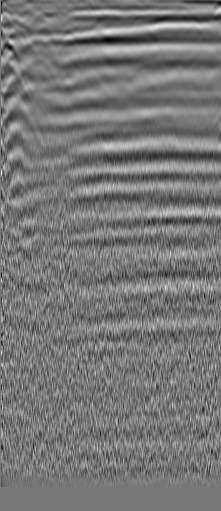오수: (26, 11, 46, 31)
우수: (178, 15, 198, 35)
